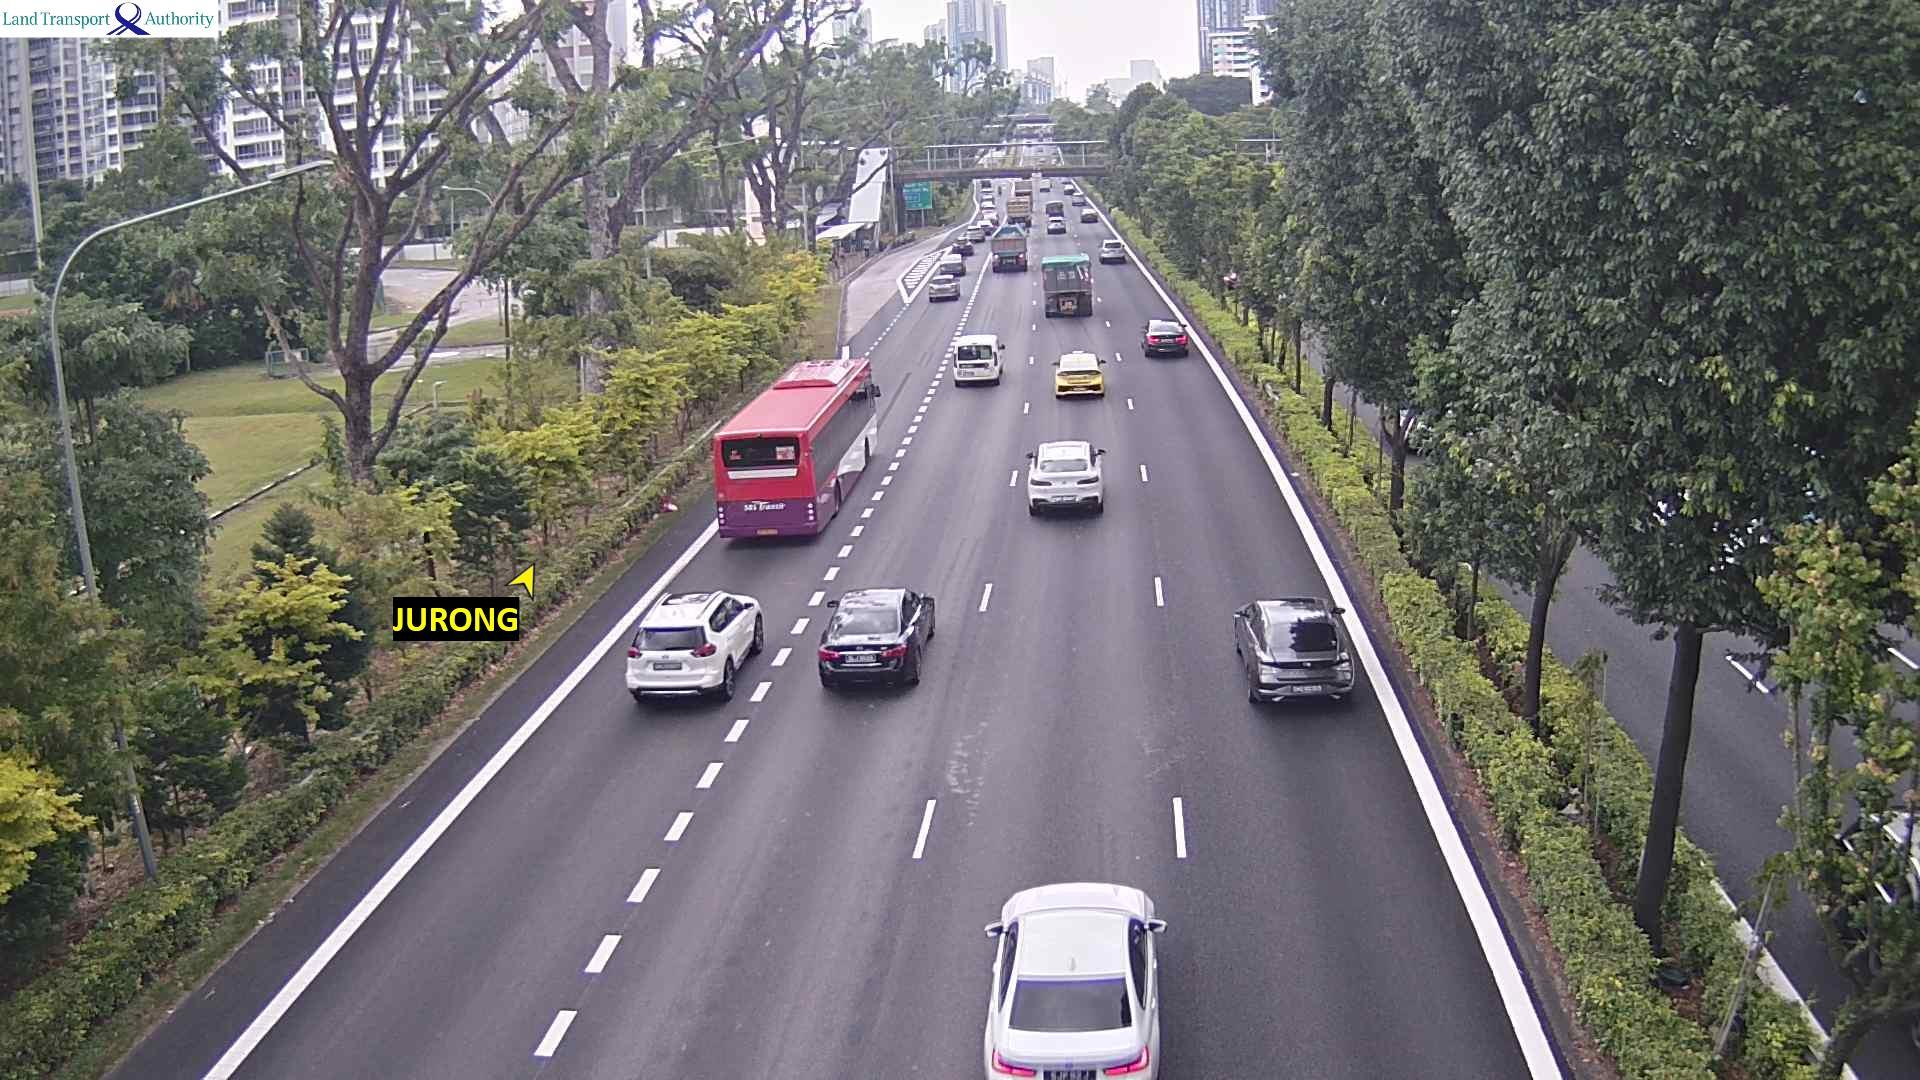bus: (711, 355, 881, 542)
cars: (981, 880, 1166, 1077), (624, 588, 764, 704), (1232, 593, 1356, 704), (816, 585, 936, 691), (1025, 438, 1106, 516), (951, 334, 1004, 386), (1051, 349, 1105, 397), (1139, 318, 1189, 357), (924, 270, 960, 301), (1044, 200, 1065, 233), (938, 249, 964, 276), (1097, 237, 1125, 262), (949, 233, 973, 255), (961, 224, 985, 243), (980, 211, 1005, 225), (1044, 216, 1065, 233), (1044, 200, 1063, 216), (1079, 207, 1098, 222), (980, 202, 1001, 215), (1069, 191, 1087, 207), (976, 218, 993, 232), (1063, 185, 1077, 198), (981, 196, 998, 204)
motorcycle: (997, 185, 1002, 196)
trucks: (1040, 252, 1095, 316), (989, 225, 1027, 273), (1006, 196, 1035, 231), (1014, 182, 1033, 199), (1036, 179, 1056, 194), (980, 182, 994, 196)
